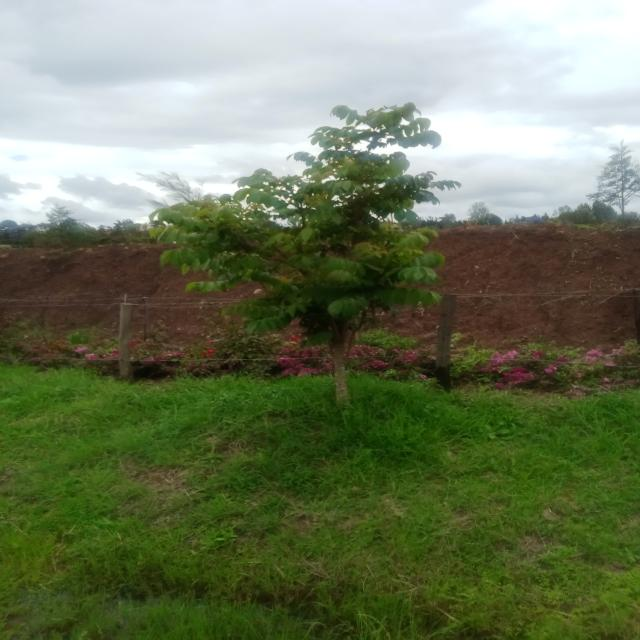Polyscias Kikuyensis: (142, 100, 476, 398)
